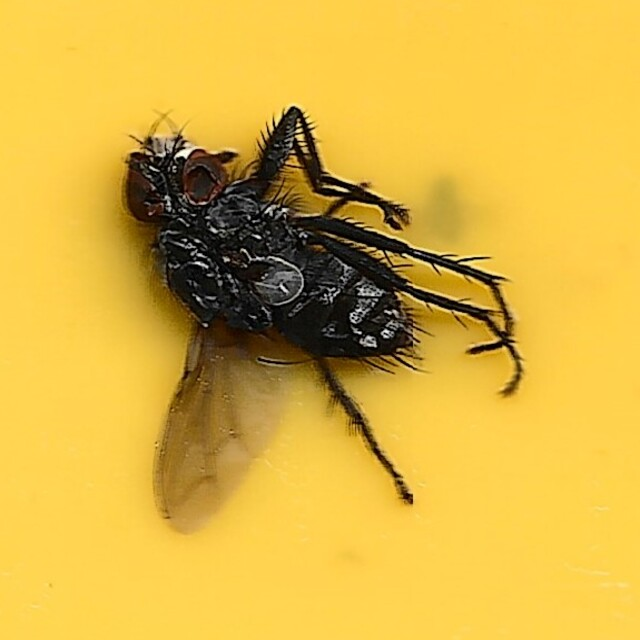Brachycera: (111, 103, 529, 537)
